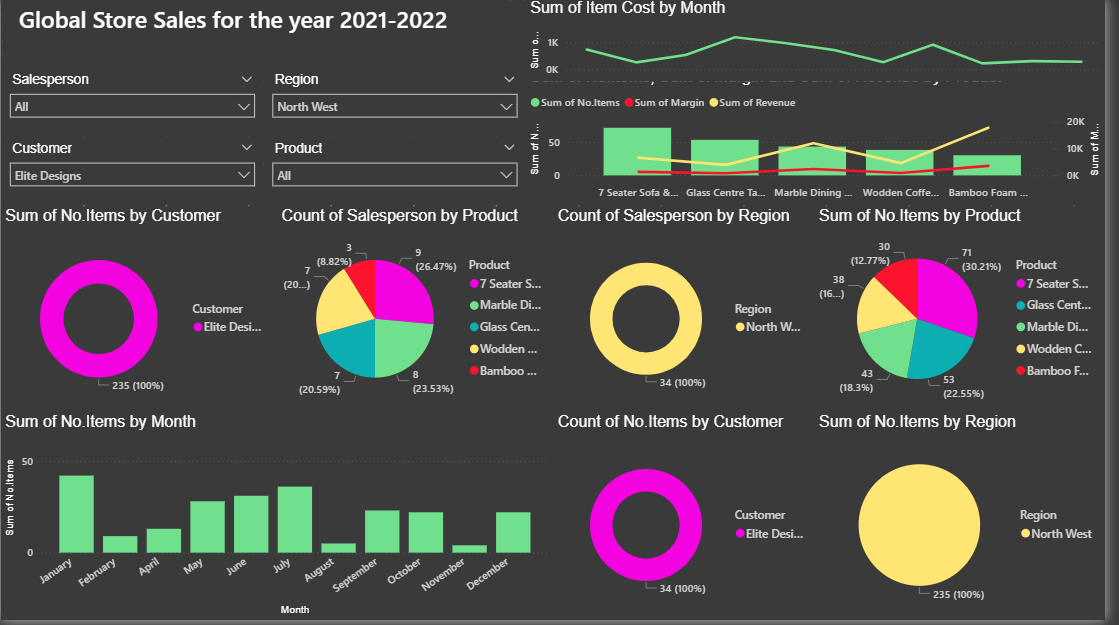

This screenshot's page, from the dashboard's own definition file:
{"tool":"powerbi","page":{"name":"Page 1","canvas":[1280,720],"ordinal":0},"visuals":[{"type":"textbox","box":[16,0,560,80],"z":0},{"type":"donutChart","fields":{"Category":["Raw_Data.Customer"],"Y":["CountNonNull(Raw_Data.No.Items)"]},"box":[640,480,304,240],"z":1000},{"type":"pieChart","fields":{"Category":["Raw_Data.Region"],"Y":["Sum(Raw_Data.No.Items)"]},"box":[944,480,336,240],"z":2000},{"type":"donutChart","fields":{"Category":["Raw_Data.Customer"],"Y":["Sum(Raw_Data.No.Items)"]},"box":[0,240,320,240],"z":3000},{"type":"pieChart","fields":{"Category":["Raw_Data.Product"],"Y":["Sum(Raw_Data.No.Items)"]},"box":[944,240,336,240],"z":4000},{"type":"donutChart","fields":{"Category":["Raw_Data.Region"],"Y":["CountNonNull(Raw_Data.Salesperson)"]},"box":[640,240,304,240],"z":5000},{"type":"slicer","fields":{"Values":["Raw_Data.Product"]},"box":[304,160,304,80],"z":7000},{"type":"slicer","fields":{"Values":["Raw_Data.Customer"]},"box":[0,160,304,80],"z":8000},{"type":"slicer","fields":{"Values":["Raw_Data.Salesperson"]},"box":[0,80,304,80],"z":9000},{"type":"slicer","fields":{"Values":["Raw_Data.Region"]},"box":[304,80,304,80],"z":10000},{"type":"lineClusteredColumnComboChart","fields":{"Category":["Raw_Data.Product"],"Y":["Sum(Raw_Data.No.Items)"],"Y2":["Sum(Raw_Data.Margin)","Sum(Raw_Data.Revenue)"]},"box":[608,80,672,160],"z":11000},{"type":"pieChart","fields":{"Y":["CountNonNull(Raw_Data.Salesperson)"],"Category":["Raw_Data.Product"]},"box":[320,240,320,240],"z":12000},{"type":"lineChart","fields":{"Category":["Raw_Data.Date.Variation.Date Hierarchy.Month"],"Y":["Sum(Raw_Data.Item Cost)"]},"box":[608,0,672,96],"z":13000},{"type":"clusteredColumnChart","fields":{"Category":["Raw_Data.Date.Variation.Date Hierarchy.Month"],"Y":["Sum(Raw_Data.No.Items)"]},"box":[0,480,640,240],"z":14000}]}

Visuals, with their boxes in screenshot pixels (x1, y1, x2, y2), scaled from the page's 1280x720 canvas onto the 1119x625 screenshot:
textbox: 14:0:504:69
donutChart - Raw_Data.Customer x CountNonNull(Raw_Data.No.Items): 560:417:825:624
pieChart - Raw_Data.Region x Sum(Raw_Data.No.Items): 825:417:1118:624
donutChart - Raw_Data.Customer x Sum(Raw_Data.No.Items): 0:208:280:417
pieChart - Raw_Data.Product x Sum(Raw_Data.No.Items): 825:208:1118:417
donutChart - Raw_Data.Region x CountNonNull(Raw_Data.Salesperson): 560:208:825:417
slicer - Raw_Data.Product: 266:139:532:208
slicer - Raw_Data.Customer: 0:139:266:208
slicer - Raw_Data.Salesperson: 0:69:266:139
slicer - Raw_Data.Region: 266:69:532:139
lineClusteredColumnComboChart - Raw_Data.Product x Sum(Raw_Data.No.Items): 532:69:1118:208
pieChart - CountNonNull(Raw_Data.Salesperson) x Raw_Data.Product: 280:208:560:417
lineChart - Raw_Data.Date.Variation.Date Hierarchy.Month x Sum(Raw_Data.Item Cost): 532:0:1118:83
clusteredColumnChart - Raw_Data.Date.Variation.Date Hierarchy.Month x Sum(Raw_Data.No.Items): 0:417:560:624
